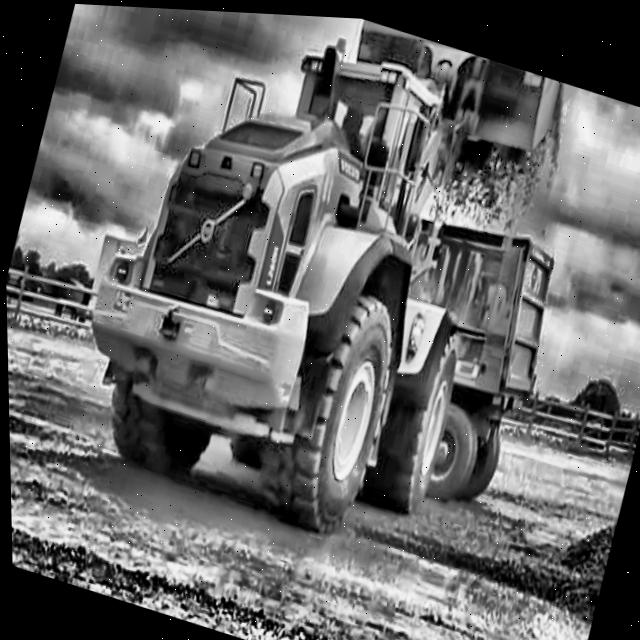buldozerpayloadergrader: (46, 2, 573, 576)
dump_truck: (343, 195, 570, 515)
